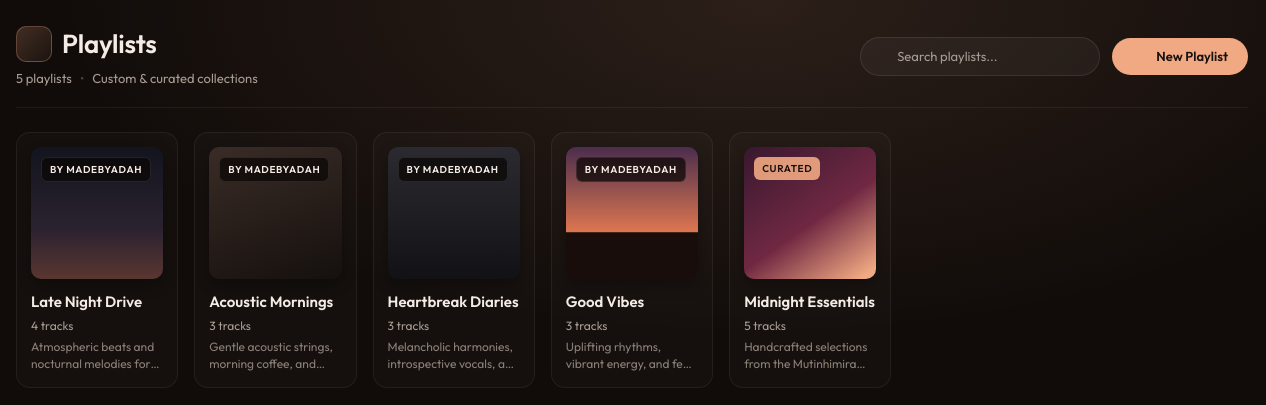
Test: Playlists and Playlist Detail Screen › filters playlist cards using the overview search filter (AC-1)
The width and height of the screenshot is (1266, 405).
Type "Acoustic" into the field with placeholder "Search playlists...". click: (980, 56)
box: [860,36,1100,76]
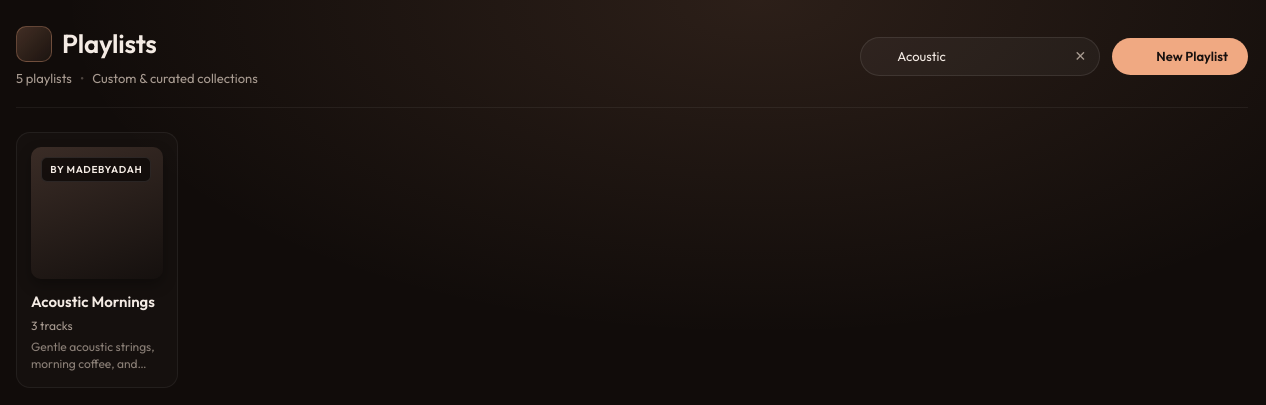
Expected: the heading "Acoustic Mornings" is shown, [31,291,163,313]
Expected: the button "Late Night Drive" is gone
Click the button named "clear playlist search". click: (1080, 56)
box: [1070,42,1090,71]
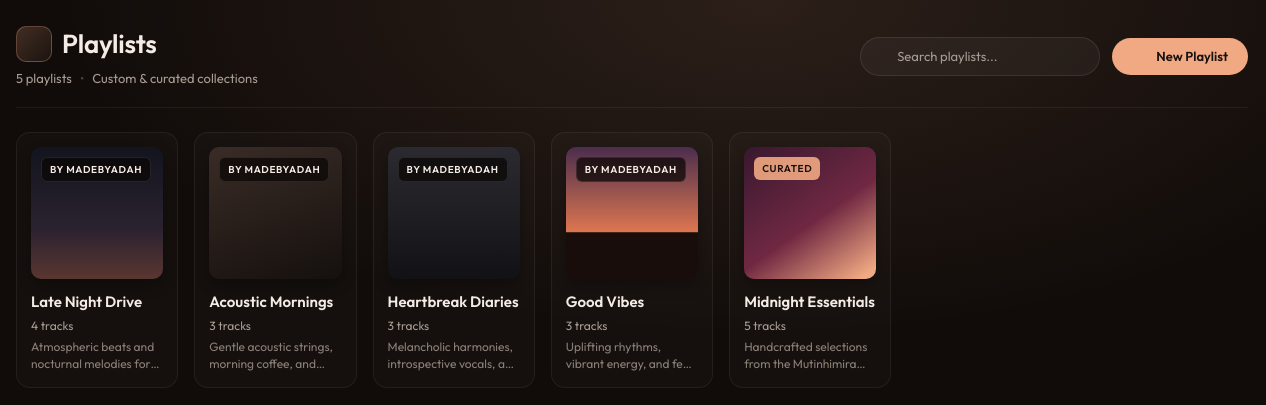
Expected: the heading "Late Night Drive" is shown, [31,292,142,311]
